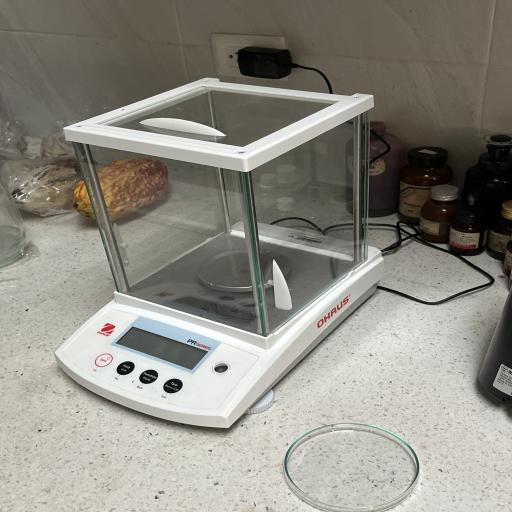Balanza_Analitica_Ohaus: (47, 71, 397, 441)
